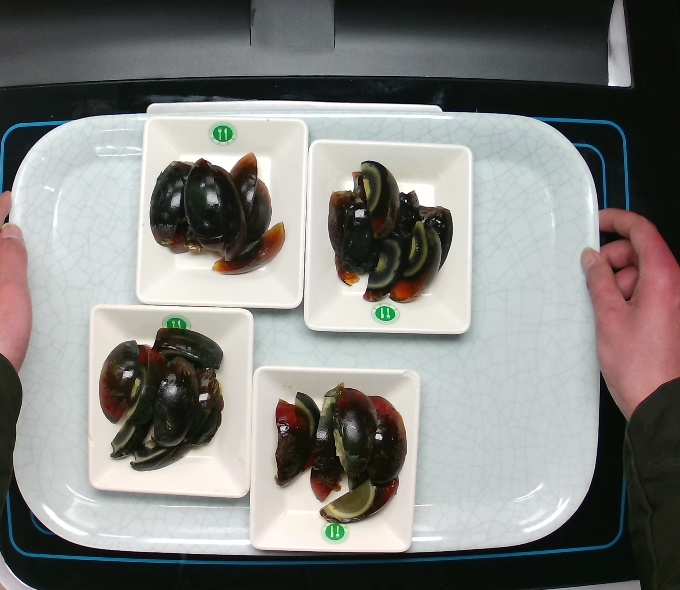wcq-PiDan: (97, 307, 237, 476), (320, 152, 459, 313), (271, 377, 409, 529), (145, 146, 294, 280)
